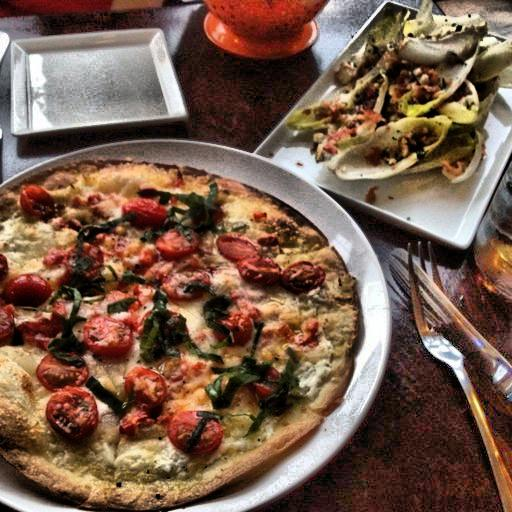pizza: (1, 169, 367, 499)
